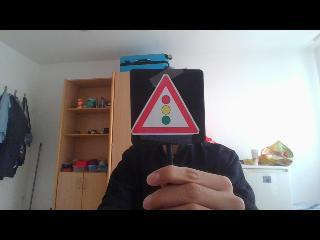traffic_light: (130, 70, 203, 138)
